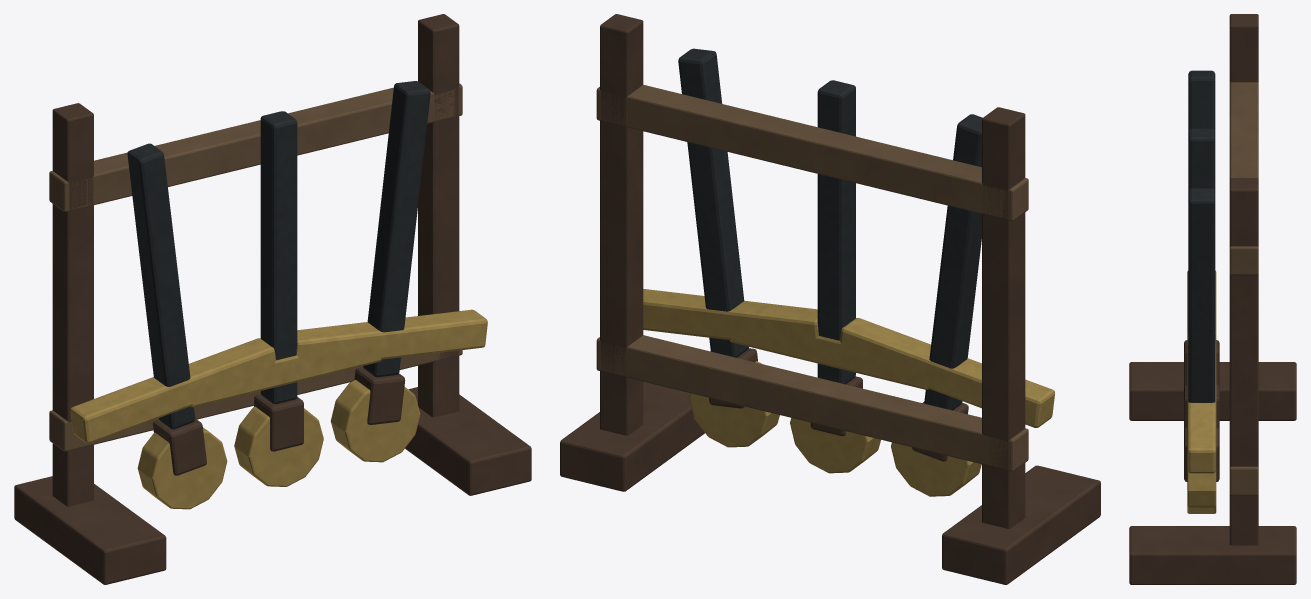
File: Weapon_Rack.fbx
3 views of the same model, side by side, from view 1: azimuth 30°, elevation 25°; view 2: azimuth 150°, elevation 25°; view 3: azimuth 270°, elevation 25° (orthographic). The views are drawn at different scales.
Visible parts, largest first — view 1: Weapon_Rack.001; view 2: Weapon_Rack.001; view 3: Weapon_Rack.001.
Part boxes in pixels (x1,y1,x2,y2): Weapon_Rack.001: [14, 14, 531, 584]; Weapon_Rack.001: [560, 14, 1100, 584]; Weapon_Rack.001: [1129, 14, 1296, 584].
Bounding box in the file's own units: 2.04 × 1.92 × 0.75.
